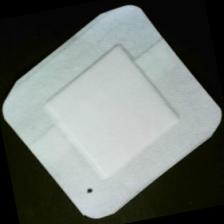Dressing: (1, 1, 224, 224)
F_Body: (78, 175, 104, 203)
